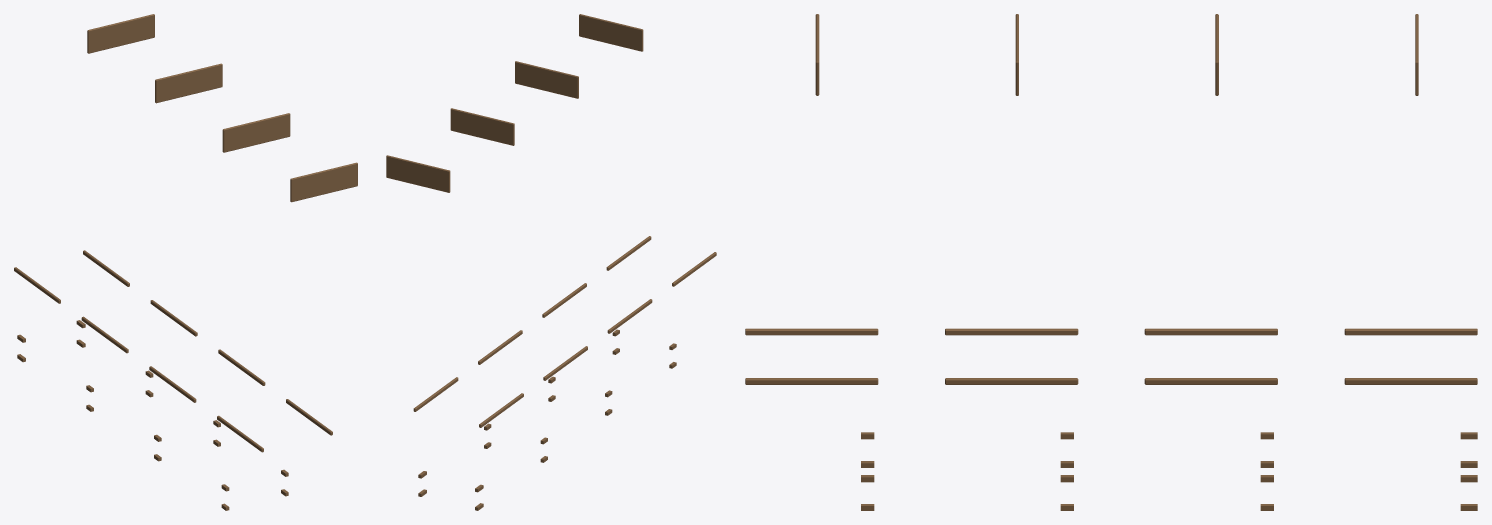
The model's file is visual_wood.glb.
The picture shows the model from 3 angles, left to right: view 1: azimuth 30°, elevation 25°; view 2: azimuth 150°, elevation 25°; view 3: azimuth 270°, elevation 25°; orthographic projection. The views are drawn at different scales.
Parts seen in each view (by area): view 1: Apartment_Wood; view 2: Apartment_Wood; view 3: Apartment_Wood.
Part boxes in pixels (box(x1,y1,x2,y2)): Apartment_Wood: box(14, 14, 357, 510); Apartment_Wood: box(386, 14, 716, 510); Apartment_Wood: box(745, 14, 1477, 510).
Size of the model in its own units: 3.24 by 8.49 by 11.55.
